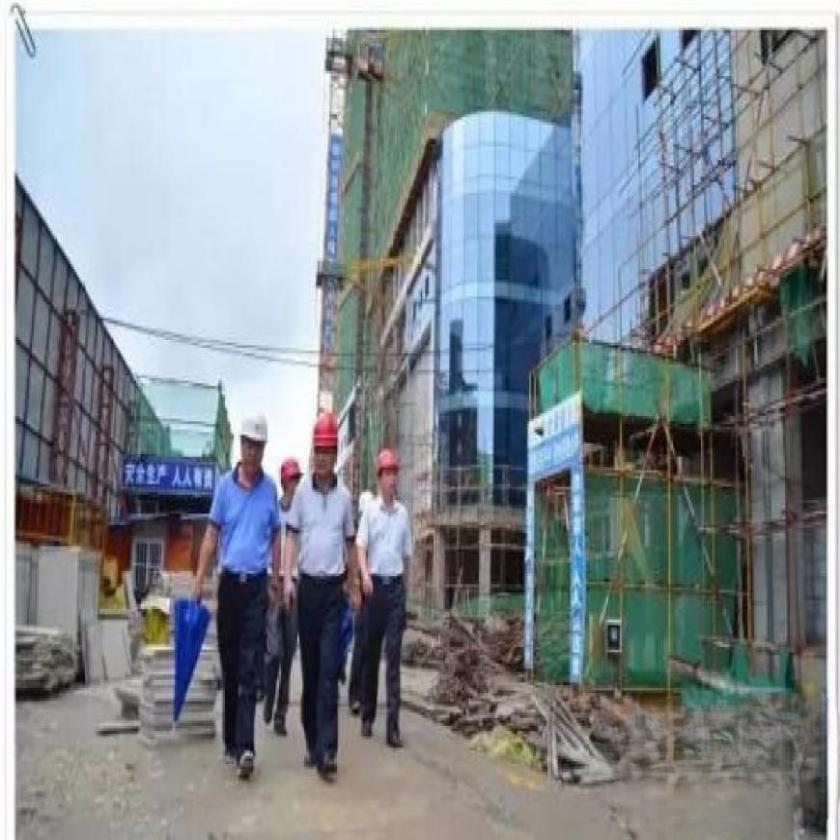Con_casco: (236, 399, 270, 480), (307, 409, 341, 478), (371, 443, 406, 502)
